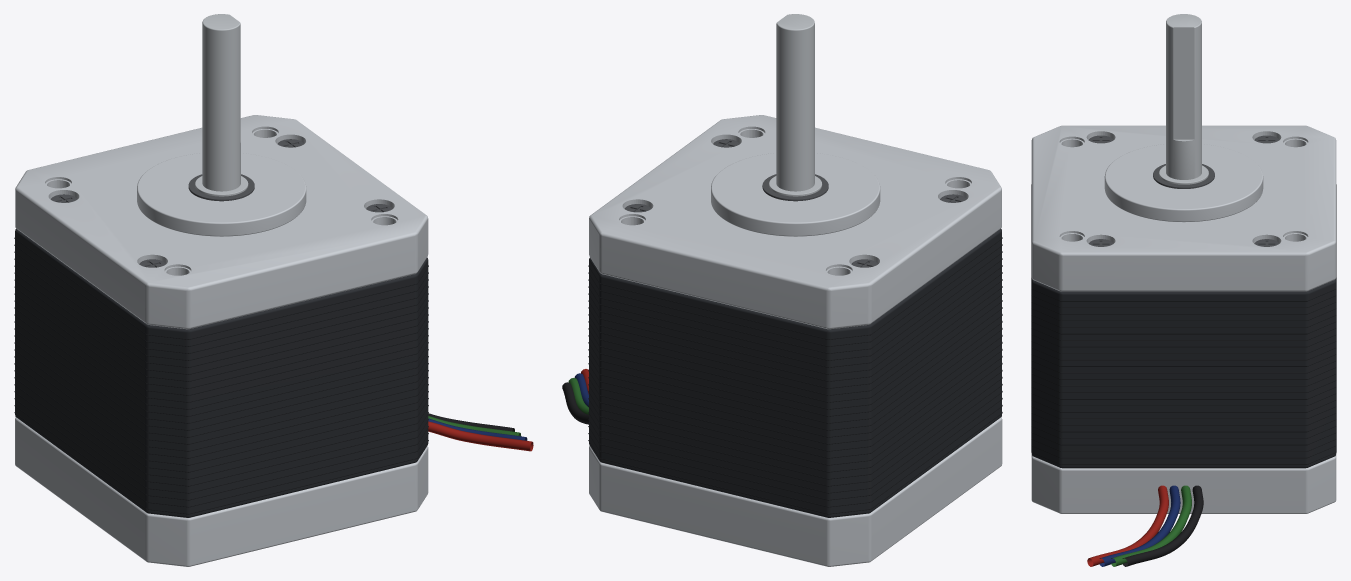
The model's file is nema17.glb.
3 views of the same model, side by side, from view 1: azimuth 30°, elevation 25°; view 2: azimuth 150°, elevation 25°; view 3: azimuth 270°, elevation 25° (orthographic). The views are drawn at different scales.
Parts seen in each view (by area): view 1: Laminated stator body, Front mounting plate, Rear end cap, 22 mm locating boss, 5 mm D shaft, Motor lead 0; view 2: Laminated stator body, Front mounting plate, Rear end cap, 22 mm locating boss, 5 mm D shaft, Lamination seam 18, Lamination seam 03, Lamination seam 04, Lamination seam 05, Lamination seam 08, Lamination seam 17, Lamination seam 22 (+20 smaller); view 3: Laminated stator body, Front mounting plate, Rear end cap, 22 mm locating boss, 5 mm D shaft, Motor lead 3, Motor lead 0, Motor lead 2, Motor lead 1, Lamination seam 20, Lamination seam 01, Lamination seam 03 (+7 smaller).
Boxes of the visible parts, box(x1,y1,x2,y2) form: Laminated stator body: box(15, 228, 428, 517); Front mounting plate: box(15, 115, 428, 329); Rear end cap: box(15, 417, 428, 566); 22 mm locating boss: box(137, 153, 306, 236); 5 mm D shaft: box(202, 14, 240, 191); Motor lead 0: box(428, 421, 533, 451); Laminated stator body: box(589, 229, 1001, 517); Front mounting plate: box(589, 115, 1001, 329); Rear end cap: box(589, 417, 1002, 566); 22 mm locating boss: box(711, 153, 880, 236); 5 mm D shaft: box(776, 14, 814, 191); Lamination seam 18: box(588, 286, 1002, 388); Lamination seam 03: box(588, 391, 1002, 493); Lamination seam 04: box(588, 384, 1002, 486); Lamination seam 05: box(588, 377, 1002, 479); Lamination seam 08: box(588, 356, 1002, 458); Lamination seam 17: box(588, 293, 1002, 395); Lamination seam 22: box(588, 258, 1002, 360); Laminated stator body: box(1031, 278, 1336, 468); Front mounting plate: box(1031, 125, 1336, 291); Rear end cap: box(1031, 454, 1336, 513); 22 mm locating boss: box(1104, 144, 1263, 222); 5 mm D shaft: box(1166, 14, 1201, 179); Motor lead 3: box(1122, 485, 1203, 566); Motor lead 0: box(1087, 485, 1168, 566); Motor lead 2: box(1111, 485, 1191, 566); Motor lead 1: box(1099, 485, 1180, 566); Lamination seam 20: box(1031, 315, 1336, 334); Lamination seam 01: box(1031, 439, 1336, 458); Lamination seam 03: box(1031, 426, 1336, 445).
Size of what is drawn, in the model's own units: 60.66 by 65.7 by 42.36.
